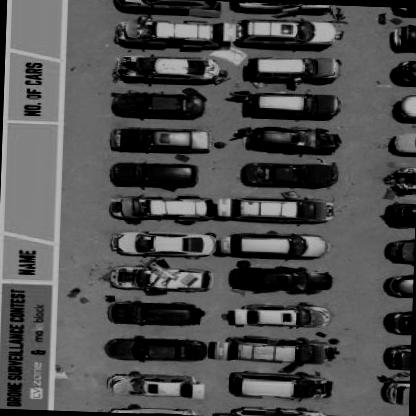car: (112, 227, 322, 261), (138, 193, 332, 226), (231, 122, 342, 154), (230, 262, 333, 294), (112, 192, 214, 223), (111, 262, 214, 292), (115, 54, 224, 82), (113, 89, 208, 120), (112, 230, 222, 256), (110, 126, 215, 152), (107, 335, 204, 362), (244, 54, 344, 80), (110, 370, 204, 397), (109, 298, 202, 324), (243, 160, 339, 184), (386, 236, 414, 265), (385, 342, 410, 369)
